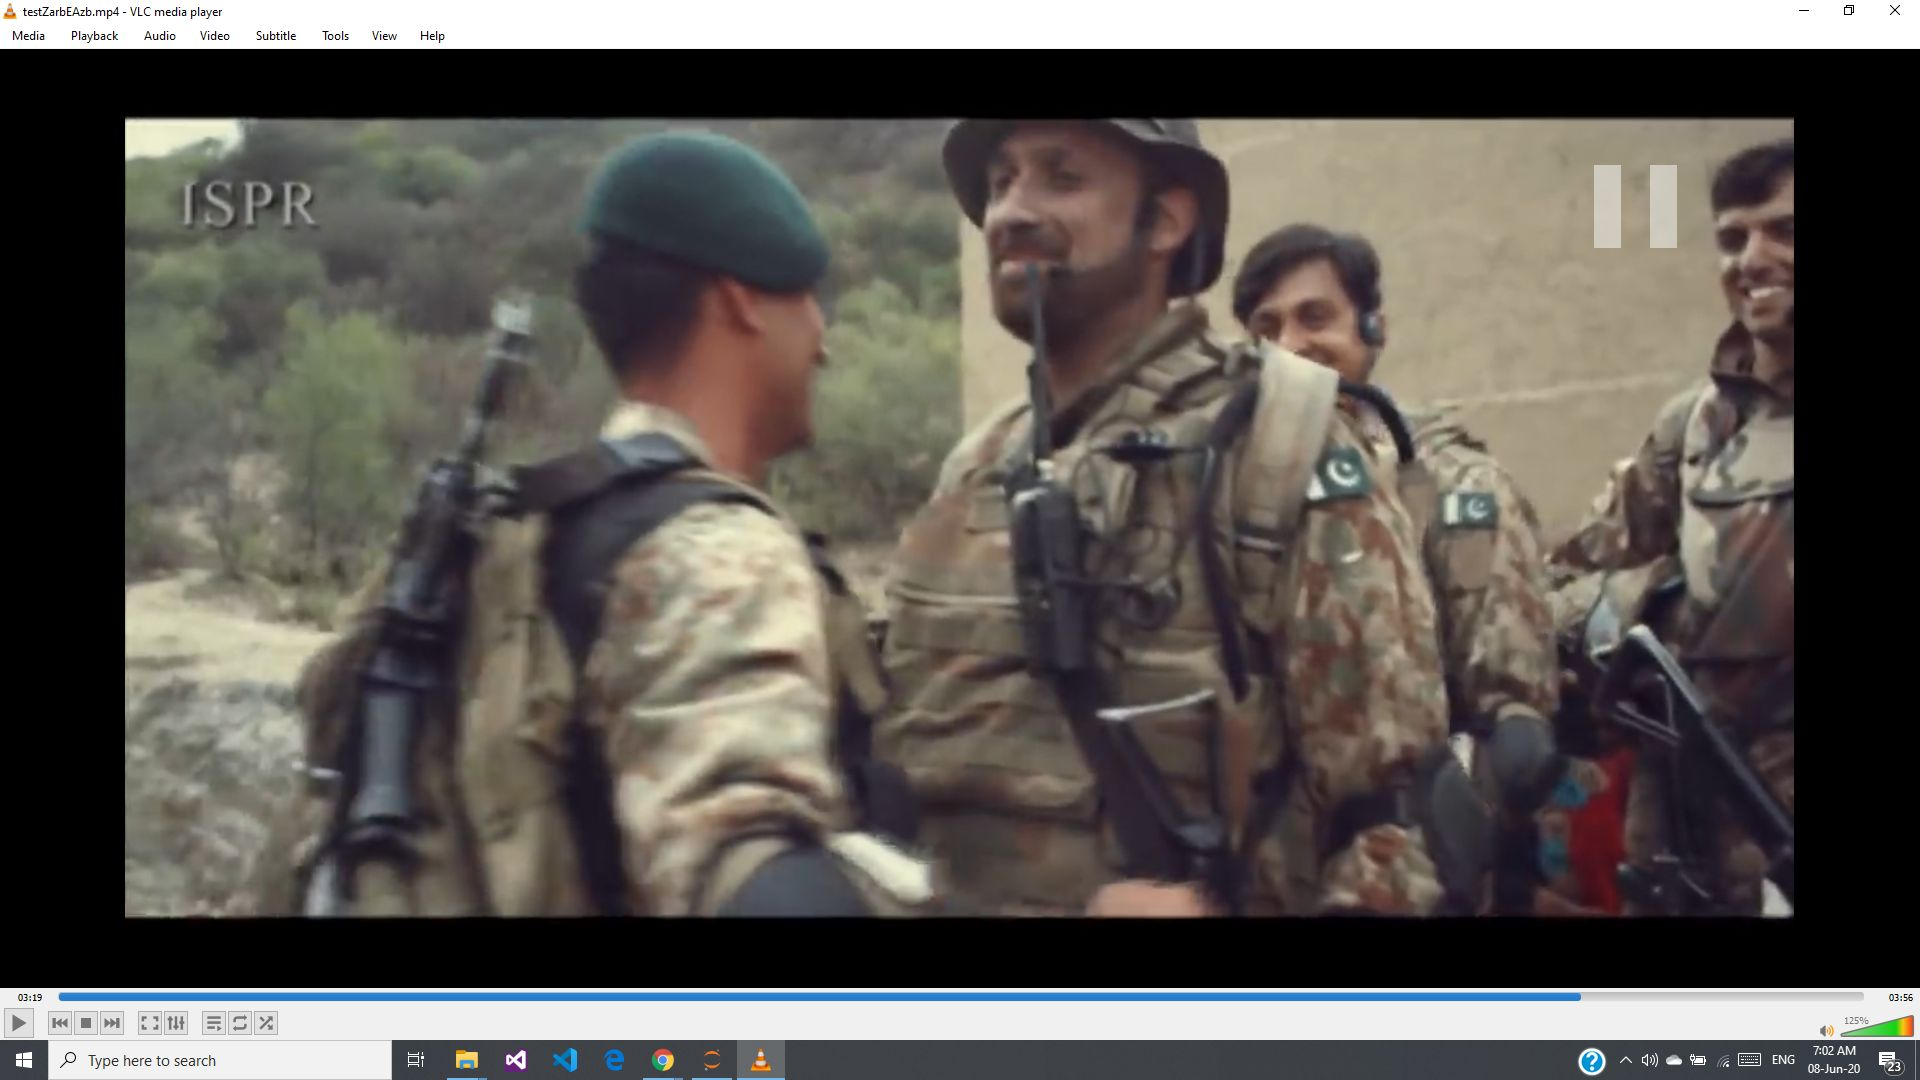gun: (258, 266, 547, 923), (1534, 556, 1800, 880)
uniform: (233, 318, 936, 928), (843, 287, 1443, 922), (1267, 389, 1581, 885), (1535, 319, 1797, 886)
